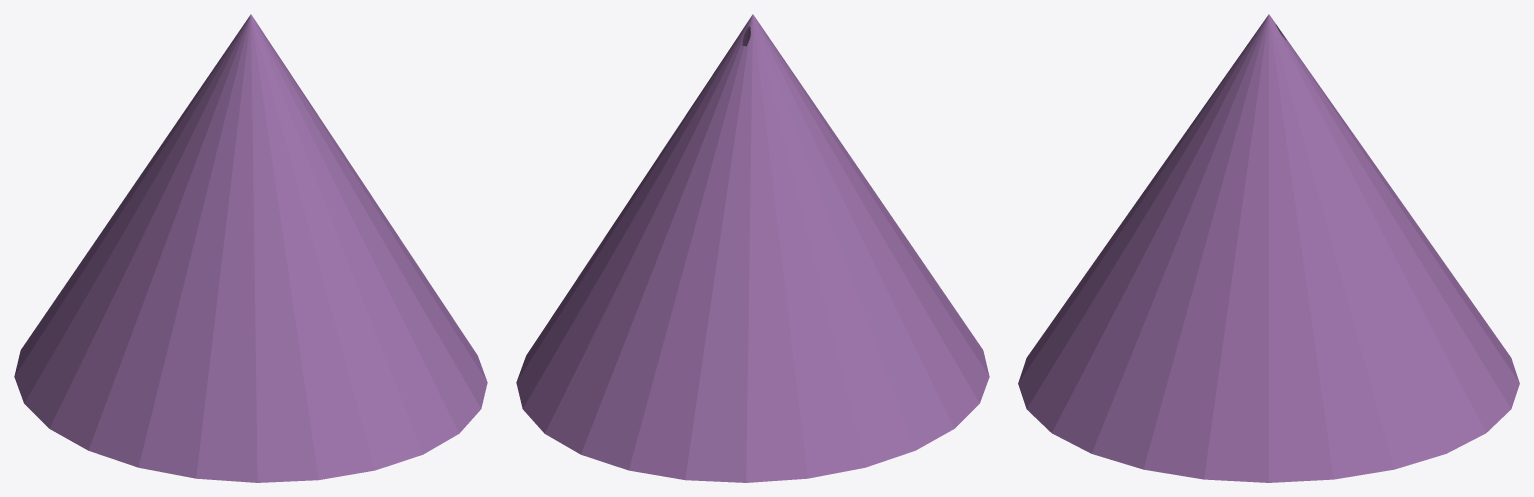
The model's file is Cono.glb.
3 renders of one model, left to right at view 1: azimuth 30°, elevation 25°; view 2: azimuth 150°, elevation 25°; view 3: azimuth 270°, elevation 25°, orthographic.
Visible parts, largest first — view 1: Mesh_Mesh_head_geo.001_lambert2SG.001; view 2: Mesh_Mesh_head_geo.001_lambert2SG.001; view 3: Mesh_Mesh_head_geo.001_lambert2SG.001.
Boxes of the visible parts, <box> form: Mesh_Mesh_head_geo.001_lambert2SG.001: <box>14,14,487,482</box>; Mesh_Mesh_head_geo.001_lambert2SG.001: <box>516,14,989,482</box>; Mesh_Mesh_head_geo.001_lambert2SG.001: <box>1018,14,1519,482</box>.
Size of the model in its own units: 30 by 26 by 32.
